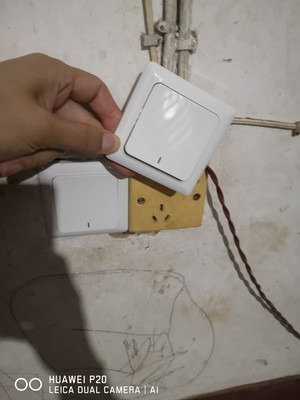switch: (122, 72, 229, 185), (49, 167, 128, 232)
